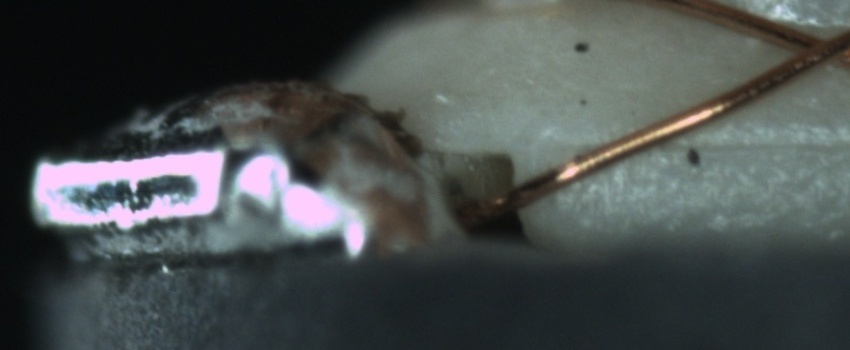CL: (775, 18, 849, 75)
DL: (603, 112, 849, 175)
